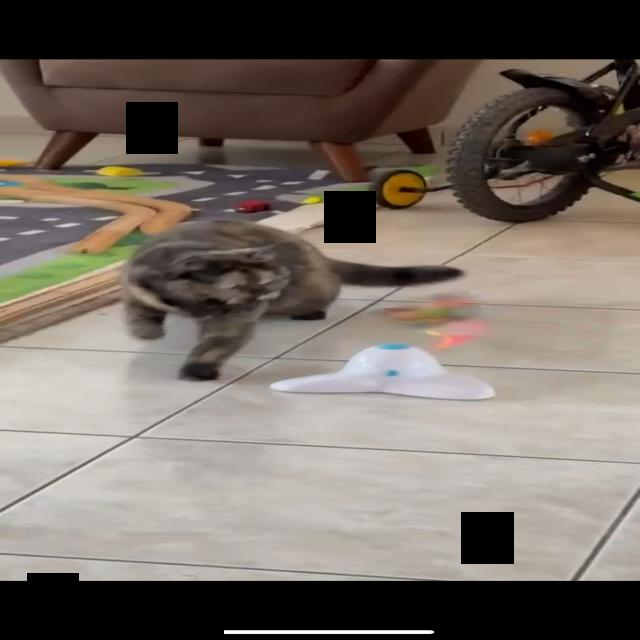authorized: (118, 218, 464, 382)
